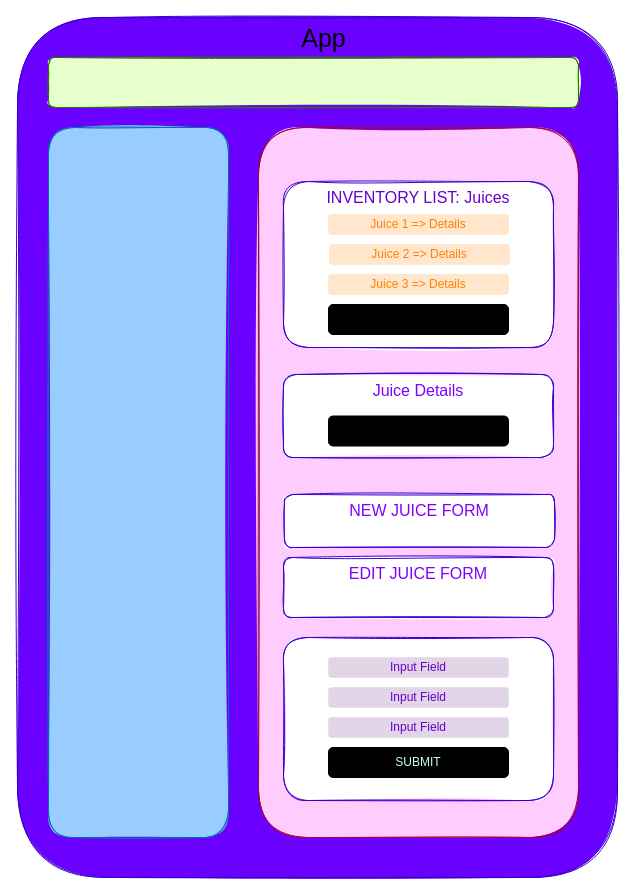
Image size: 635x895. Some labels were removed from this diagram. Here are the shapes that lost their labels. From the top down, the box of each, then its label:
(48, 56, 578, 108): HEAD E R
(328, 304, 508, 334): BUTTON: Add Juice > to Form
(328, 415, 508, 446): BUTTON: Back > to List
(48, 126, 228, 838): ABOUT SPACEJUICE
(258, 126, 578, 838): SPACEJUICE CONTROL LER
(282, 636, 554, 800): REUSABLE FORM
